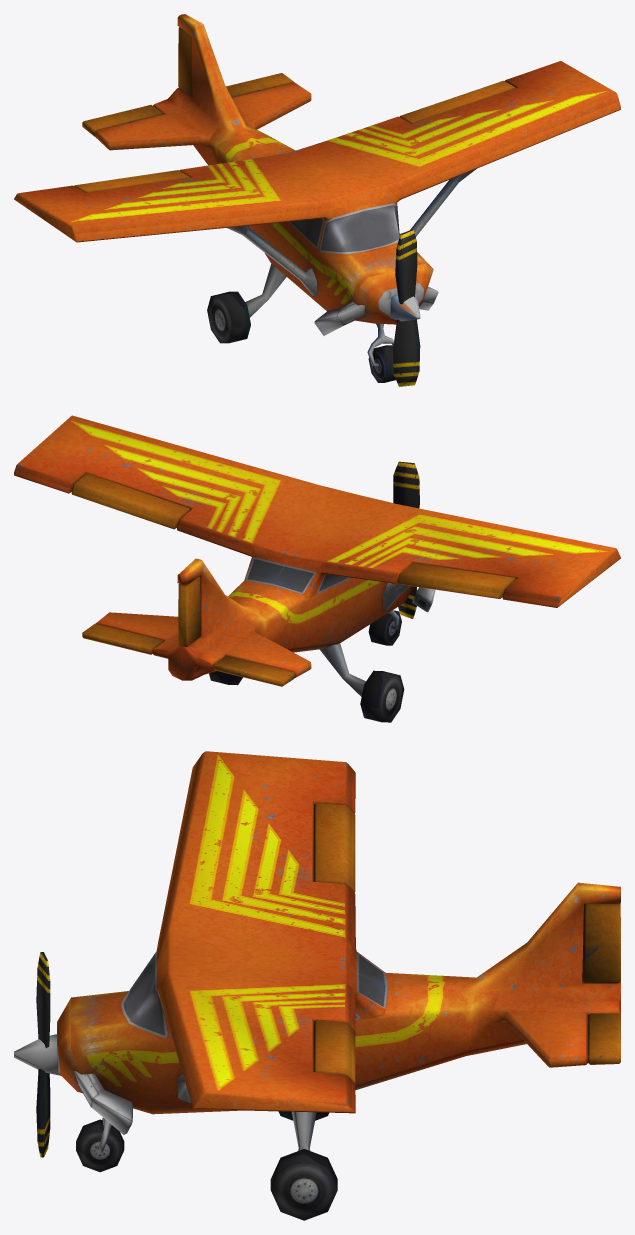
Rendered from ToonAirplane_03.fbx.
The picture shows the model from 3 angles, top to bottom: view 1: azimuth 30°, elevation 25°; view 2: azimuth 150°, elevation 25°; view 3: azimuth 270°, elevation 25°; orthographic projection. The views are drawn at different scales.
Visible parts, largest first — view 1: ToonAirplane_03, Propeller, Ctrl_Elevators, Ctrl_Aileron_L, Ctrl_Aileron_R, Ctrl_Rudder; view 2: ToonAirplane_03, Ctrl_Aileron_L, Ctrl_Elevators, Ctrl_Aileron_R, Propeller, Ctrl_Rudder; view 3: ToonAirplane_03, Ctrl_Aileron_R, Ctrl_Rudder, Propeller, Ctrl_Aileron_L, Ctrl_Elevators.
Part boxes in pixels (x1=…): ToonAirplane_03: x1=14, y1=14, x2=620, y2=382; Propeller: x1=393, y1=229, x2=420, y2=386; Ctrl_Elevators: x1=82, y1=73, x2=294, y2=136; Ctrl_Aileron_L: x1=399, y1=80, x2=515, y2=123; Ctrl_Aileron_R: x1=74, y1=170, x2=189, y2=192; Ctrl_Rudder: x1=178, y1=27, x2=192, y2=96; ToonAirplane_03: x1=14, y1=415, x2=620, y2=722; Ctrl_Aileron_L: x1=71, y1=473, x2=190, y2=529; Ctrl_Elevators: x1=82, y1=623, x2=294, y2=686; Ctrl_Aileron_R: x1=397, y1=563, x2=516, y2=598; Propeller: x1=393, y1=461, x2=419, y2=618; Ctrl_Rudder: x1=178, y1=576, x2=200, y2=646; ToonAirplane_03: x1=14, y1=751, x2=620, y2=1220; Ctrl_Aileron_R: x1=314, y1=803, x2=355, y2=892; Ctrl_Rudder: x1=582, y1=903, x2=620, y2=983; Propeller: x1=36, y1=952, x2=50, y2=1157; Ctrl_Aileron_L: x1=314, y1=1019, x2=355, y2=1083; Ctrl_Elevators: x1=588, y1=1013, x2=620, y2=1064.
Bounding box in the file's own units: 35.63 × 13.79 × 26.77.
